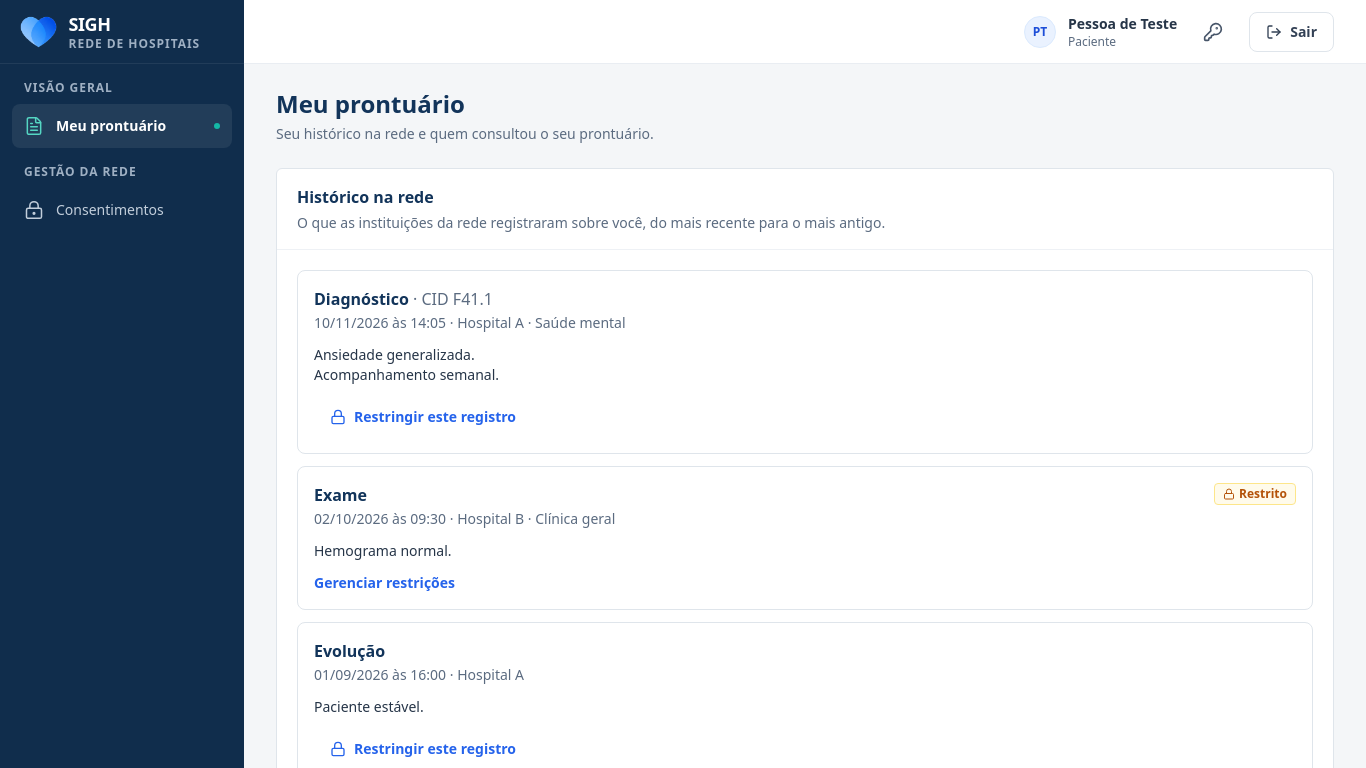
Test: FE-05: Meu prontuário — histórico na rede › a recusa da API aparece no diálogo, que continua aberto
Check: the heading "Meu prontuário" is shown, box [276,87,465,120]
Click the button "Restringir este registro" below "10/11/2026 às 14:05": click(423, 417) [314,397,532,437]
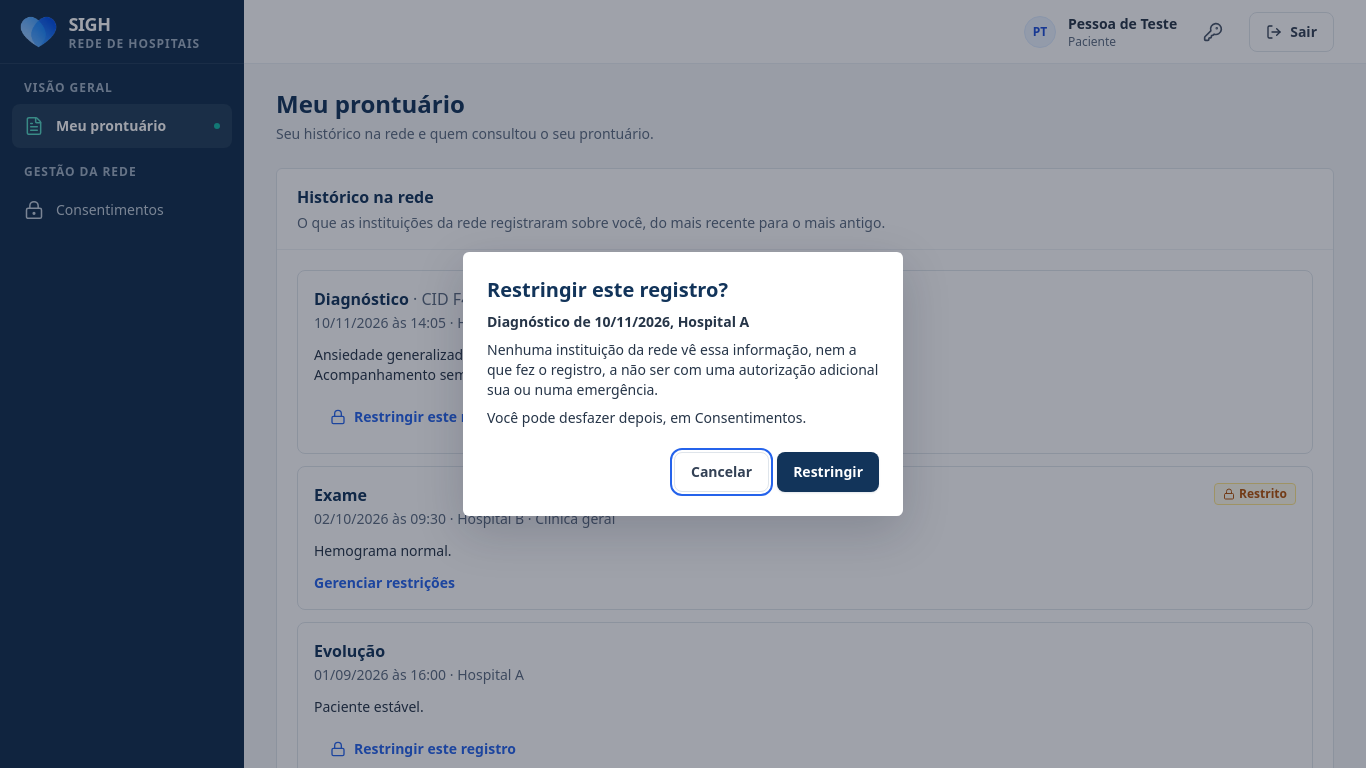
Click the button "Restringir": click(828, 472) [777,452,879,492]
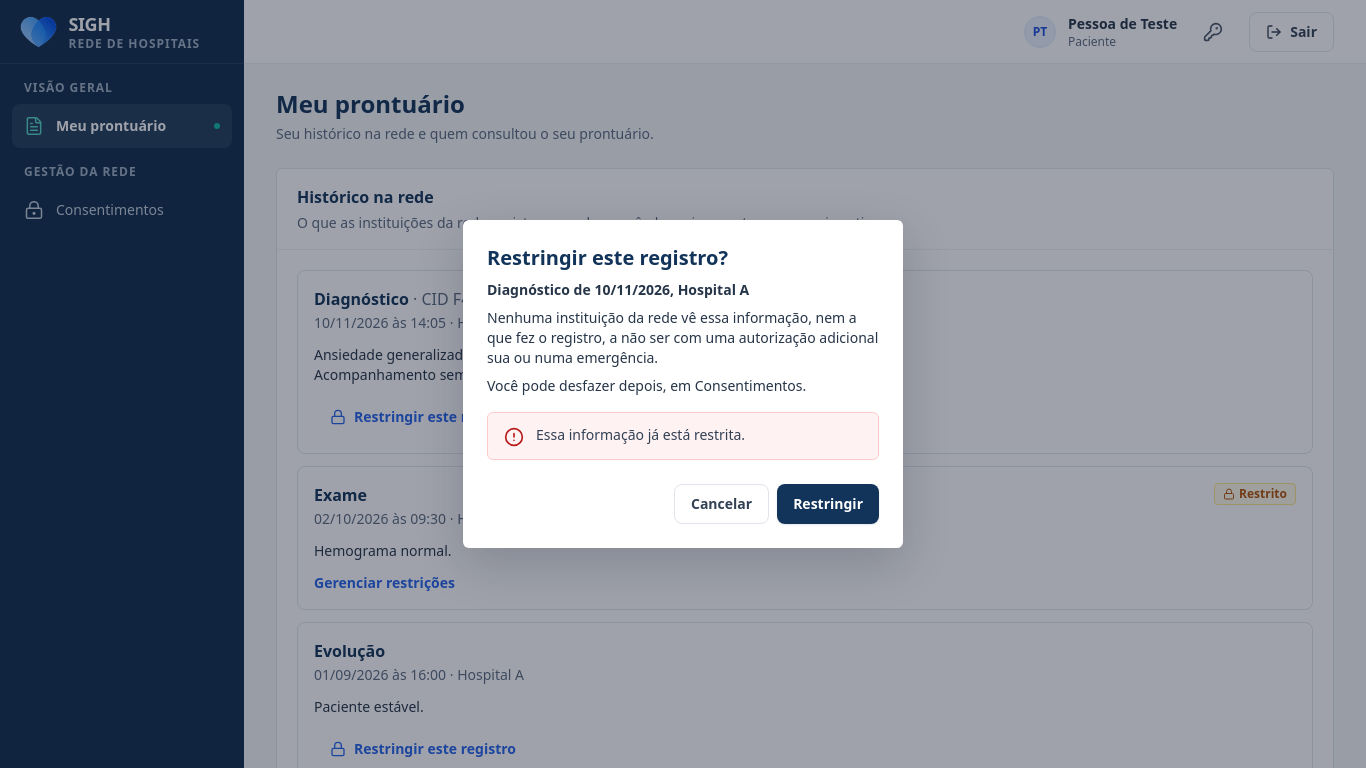
Check: the text "Essa informação já está restrita." is shown, box [536,425,745,444]
